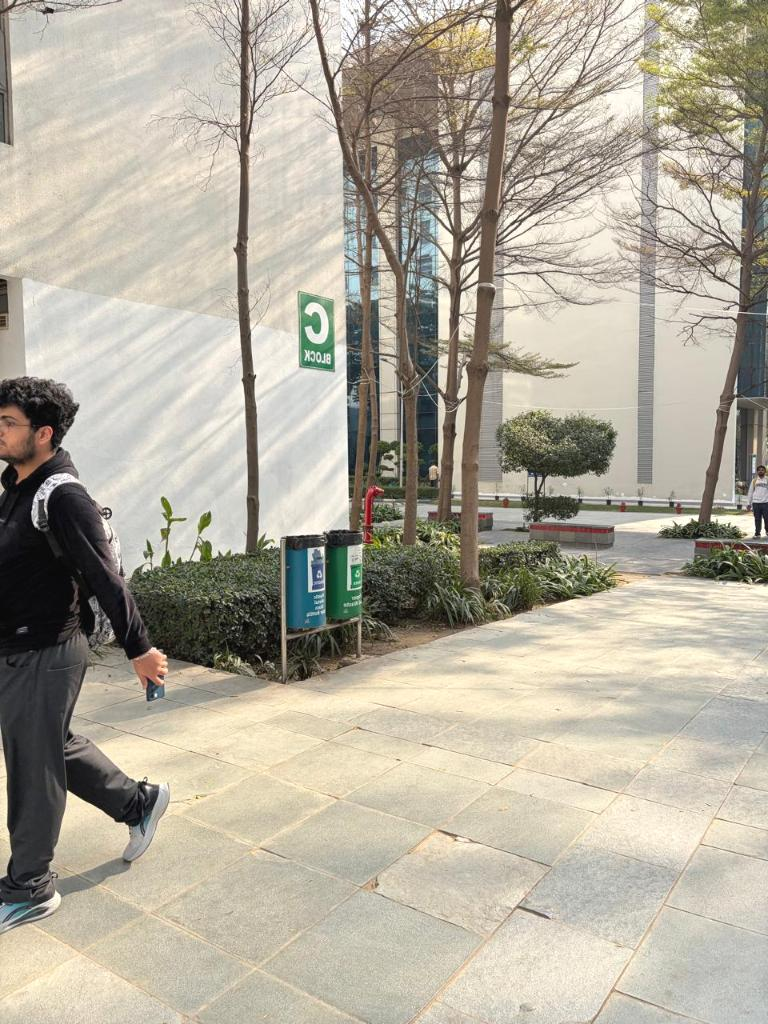dustbin: (272, 524, 369, 671)
